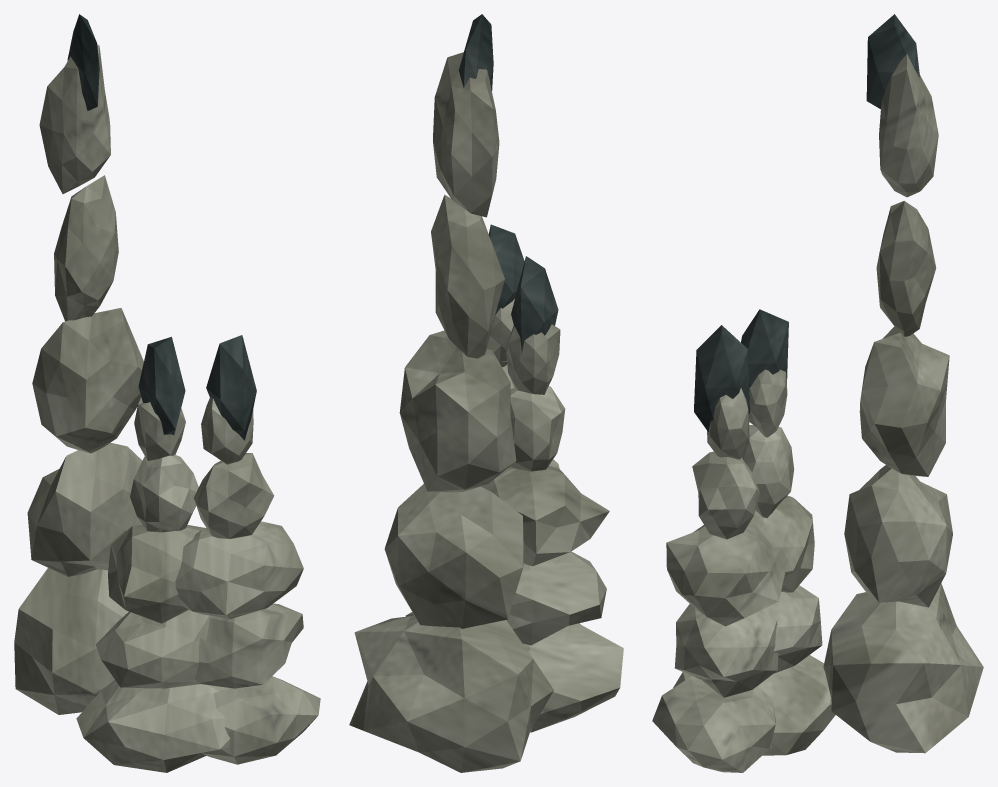
The model's file is 0073_rock_spire_23.glb.
3 views of the same model, side by side, from view 1: azimuth 30°, elevation 25°; view 2: azimuth 150°, elevation 25°; view 3: azimuth 270°, elevation 25° (orthographic). The views are drawn at different scales.
Visible parts, largest first — view 1: stone_light, stone_dark; view 2: stone_light, stone_dark; view 3: stone_light, stone_dark.
Part boxes in pixels (x1,y1,x2,y2): stone_light: [14, 45, 320, 772]; stone_dark: [67, 14, 256, 440]; stone_light: [349, 52, 623, 772]; stone_dark: [458, 14, 558, 353]; stone_light: [652, 54, 983, 772]; stone_dark: [694, 14, 919, 431].
Bounding box in the file's own units: 1 × 3.09 × 1.3.
Materials: 2 (2 with a texture image).
